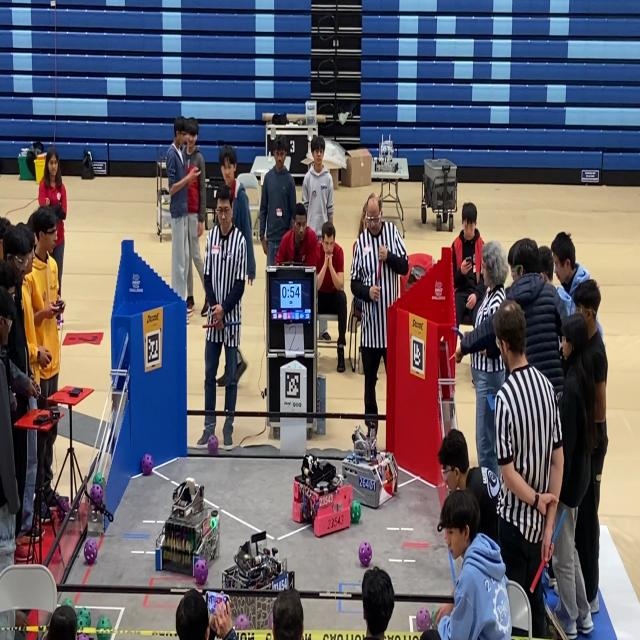artifact_green: (416, 608, 431, 632), (96, 617, 112, 639), (77, 607, 91, 626), (77, 613, 90, 630), (351, 501, 361, 523), (77, 612, 90, 626), (93, 472, 103, 488), (77, 618, 88, 632), (431, 609, 438, 628), (62, 598, 74, 609), (210, 517, 217, 529), (77, 633, 90, 639), (210, 518, 215, 529)
artifact_purple: (194, 559, 208, 585), (416, 608, 431, 632), (84, 539, 97, 565), (56, 497, 69, 522), (359, 542, 372, 567), (141, 453, 154, 476), (90, 484, 103, 505), (235, 614, 251, 630), (207, 434, 219, 455), (268, 611, 273, 630), (77, 633, 89, 639)
